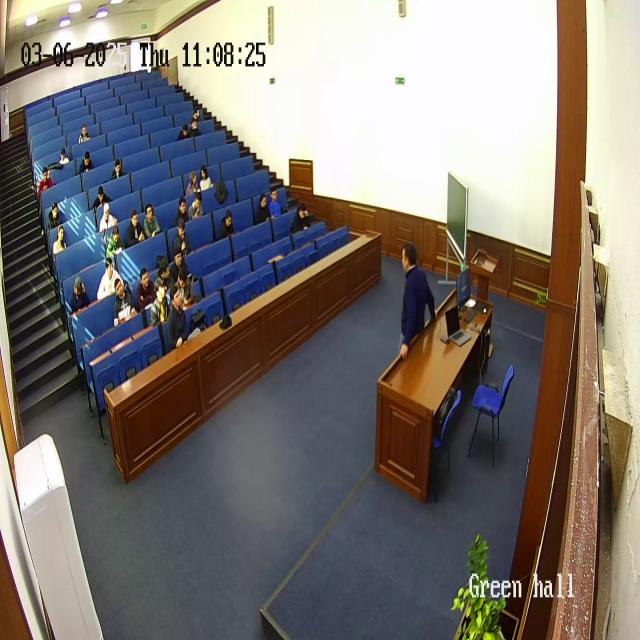person: (398, 242, 435, 360), (166, 284, 190, 348), (112, 278, 136, 326), (168, 248, 190, 295), (149, 279, 170, 328), (134, 266, 156, 310), (69, 272, 91, 316), (96, 257, 118, 300), (176, 268, 197, 310), (289, 201, 311, 236), (104, 222, 124, 260), (126, 212, 146, 247), (142, 203, 162, 238), (172, 220, 190, 257), (98, 202, 117, 235), (217, 209, 235, 239), (52, 224, 68, 257), (174, 194, 190, 226), (93, 184, 111, 212), (256, 193, 272, 224), (38, 168, 55, 197), (267, 188, 283, 218), (188, 193, 204, 221), (153, 259, 171, 282), (48, 203, 62, 232), (186, 172, 201, 198), (78, 150, 94, 173), (199, 165, 213, 191), (187, 117, 202, 139), (110, 158, 124, 180), (78, 123, 92, 144), (190, 107, 204, 126), (177, 122, 190, 140), (58, 147, 70, 166)
